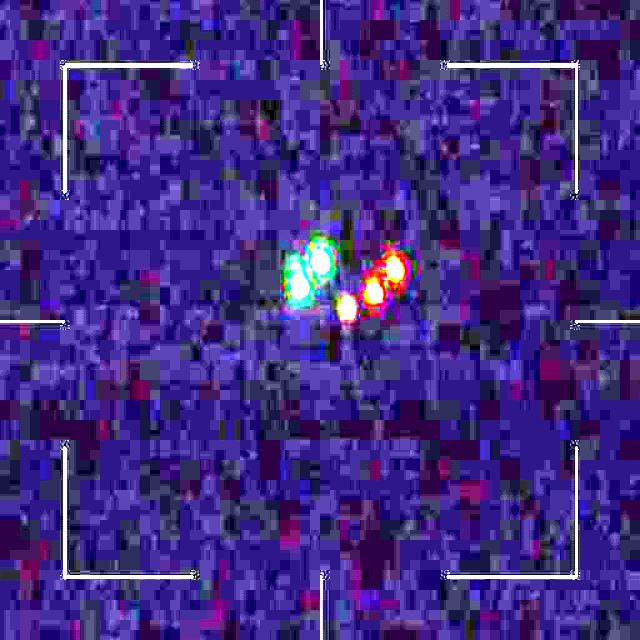bird: (289, 246, 404, 321)
